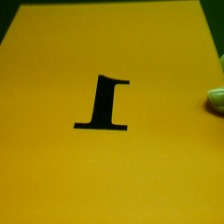orange1: (69, 69, 134, 137)
